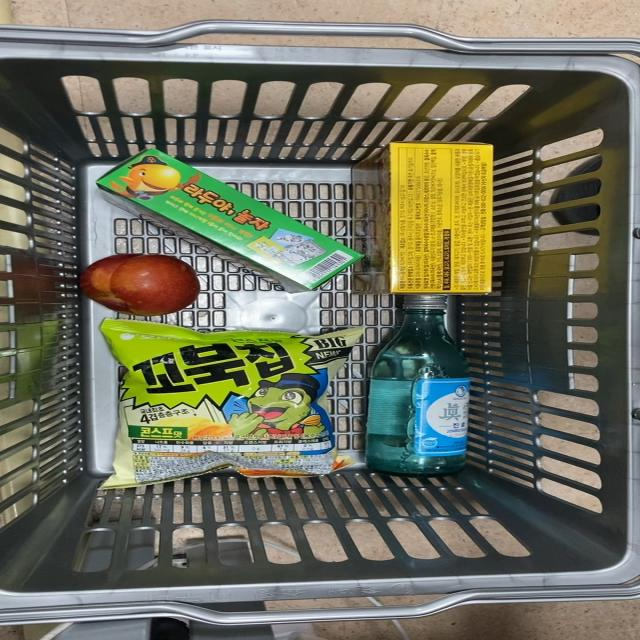ggobukchip: (102, 317, 357, 482)
goraebob: (93, 148, 357, 286)
jinro: (366, 286, 488, 476)
minicrab: (345, 130, 513, 296)
plum: (69, 248, 210, 314)
